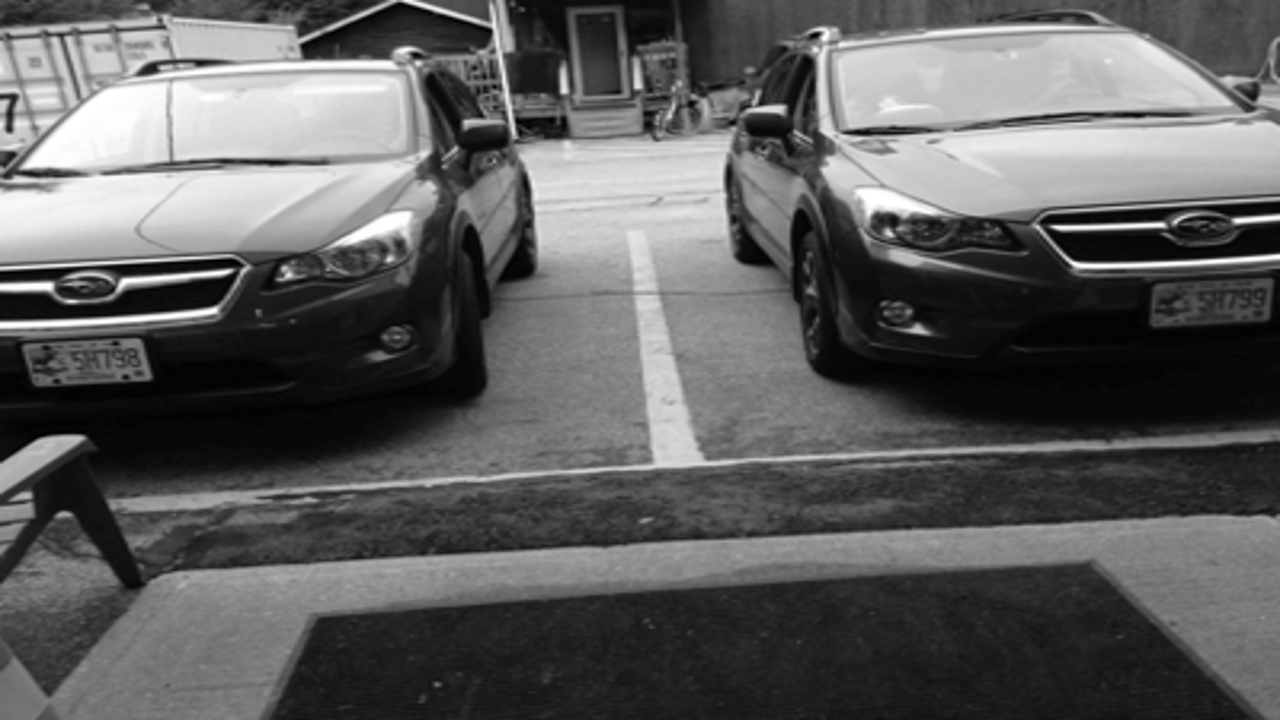license: (15, 333, 165, 393), (1140, 275, 1280, 331)
